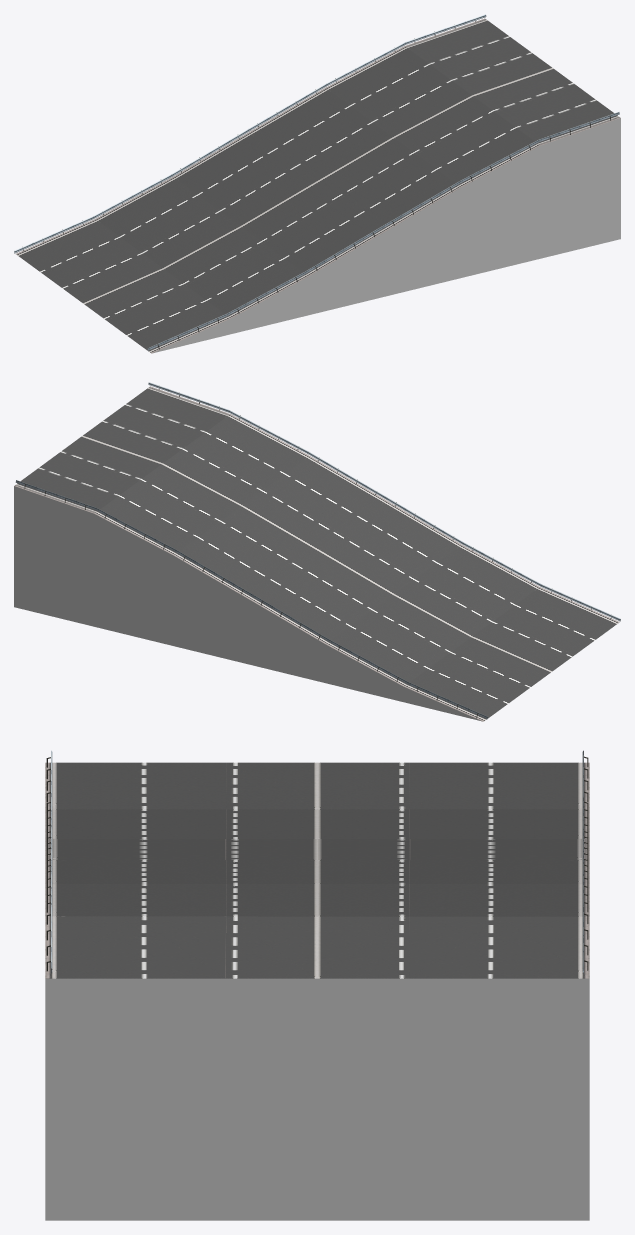
File: straight ramp piece.FBX
3 views of the same model, one above another, from view 1: azimuth 30°, elevation 25°; view 2: azimuth 150°, elevation 25°; view 3: azimuth 270°, elevation 25° (orthographic). The views are drawn at different scales.
Parts seen in each view (by area): view 1: Plane285; view 2: Plane285; view 3: Plane285.
Boxes of the visible parts, x1=… form: Plane285: x1=14, y1=14, x2=620, y2=353; Plane285: x1=14, y1=382, x2=620, y2=721; Plane285: x1=45, y1=750, x2=589, y2=1220.
Bounding box in the file's own units: 70.34 × 17.97 × 35.09.
